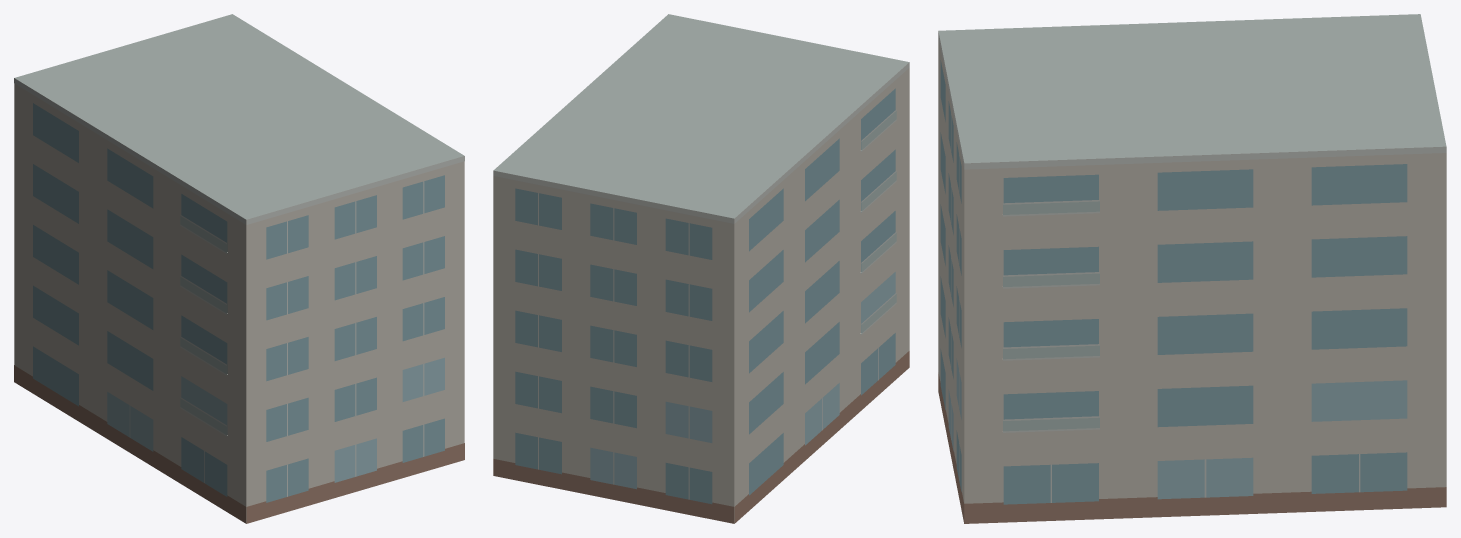
Rendered from survey-upis-32956832.glb.
3 views of the same model, side by side, from view 1: azimuth 30°, elevation 25°; view 2: azimuth 150°, elevation 25°; view 3: azimuth 270°, elevation 25° (orthographic). The views are drawn at different scales.
Parts seen in each view (by area): view 1: survey-upis-32956832.tmp; view 2: survey-upis-32956832.tmp; view 3: survey-upis-32956832.tmp.
Boxes of the visible parts, box(x1,y1,x2,y2) form: survey-upis-32956832.tmp: box(14, 14, 464, 523); survey-upis-32956832.tmp: box(493, 14, 909, 523); survey-upis-32956832.tmp: box(938, 14, 1446, 523).
Bounding box in the file's own units: 12.36 × 13.9 × 17.77.
